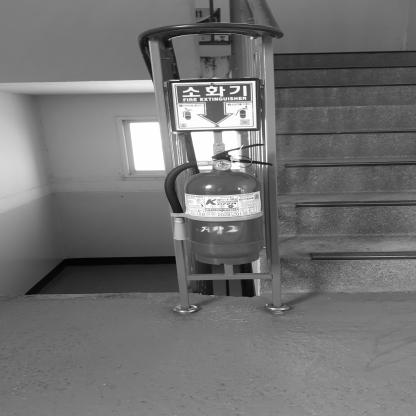FE: (164, 141, 270, 266)
